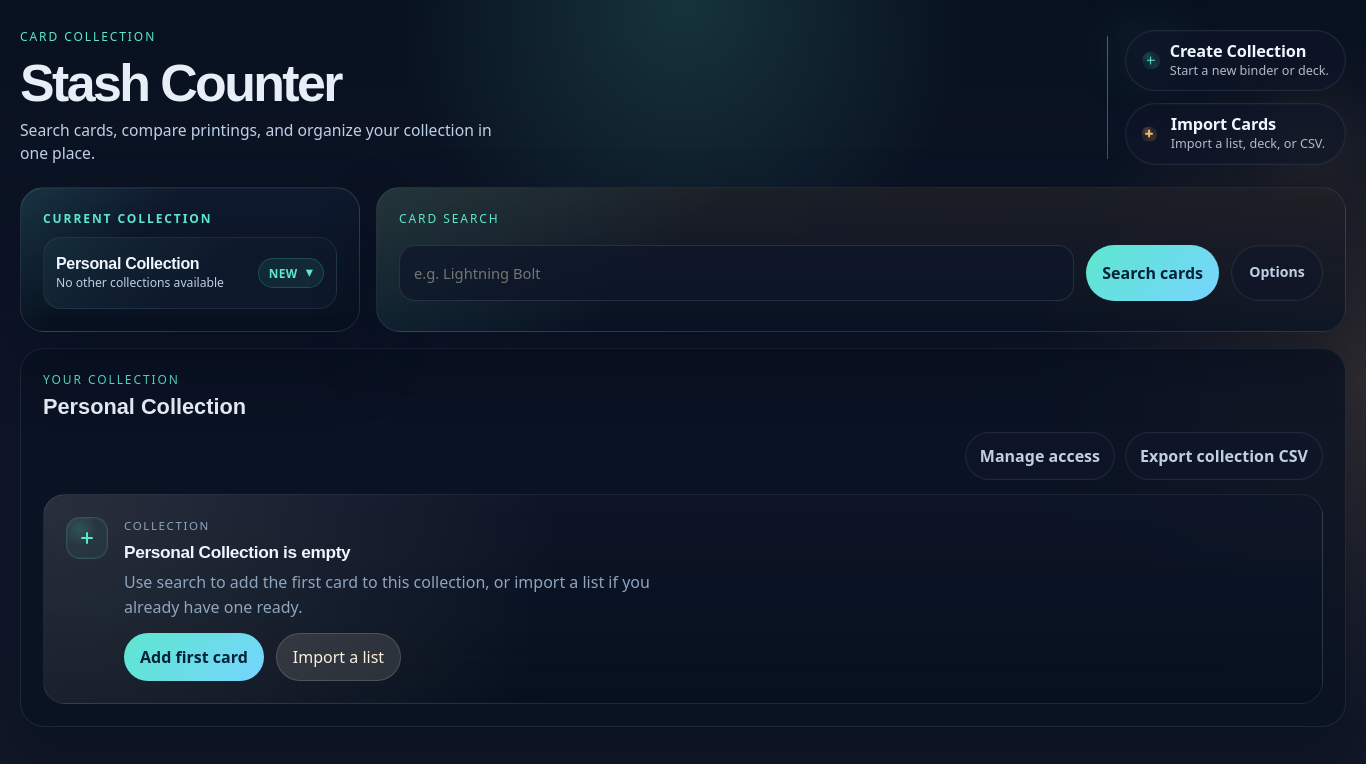
Test: App › supports keyboard selection from autocomplete suggestions
The image size is (1366, 764).
Type "Fo" into the dropdown named "Quick Add and Card Search". click: (737, 273)
box: x1=399 y1=245 x2=1074 y2=301
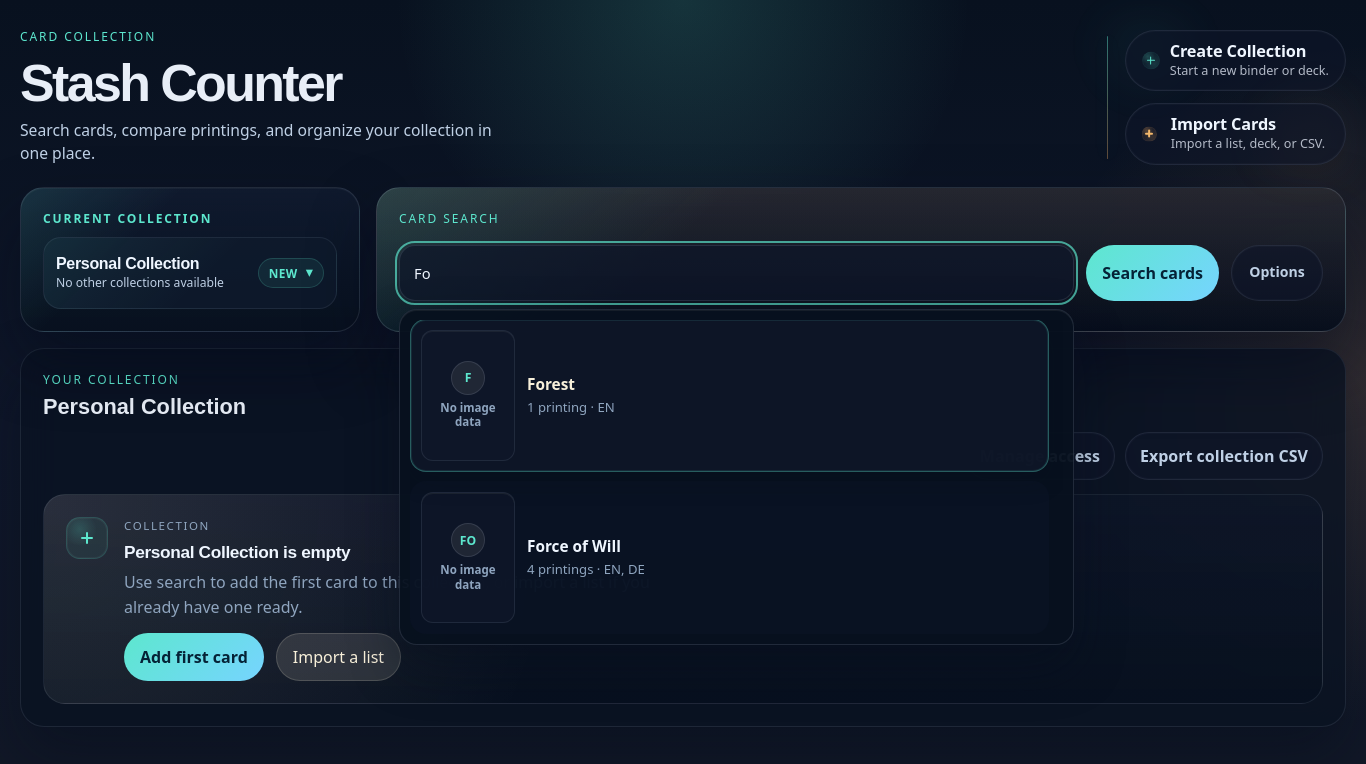
Expected: the list named "Card suggestions" is shown, x1=399 y1=309 x2=1074 y2=645
Expected: the option "F No image data Forest 1 printing · EN" is shown, x1=410 y1=320 x2=1049 y2=472
Expected: the option "FO No image data Force of Will 4 printings · EN, DE" is shown, x1=410 y1=481 x2=1049 y2=634
Press Arrowdown
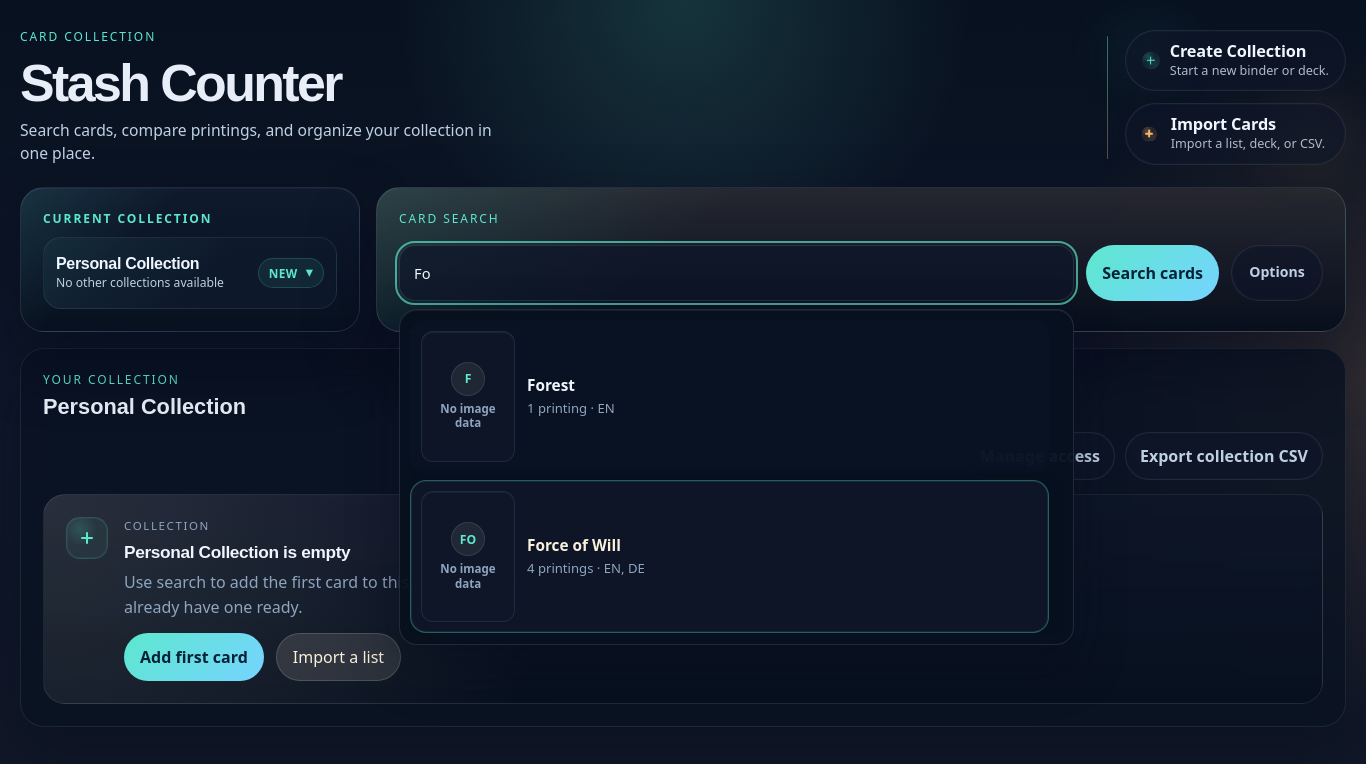
Press Enter
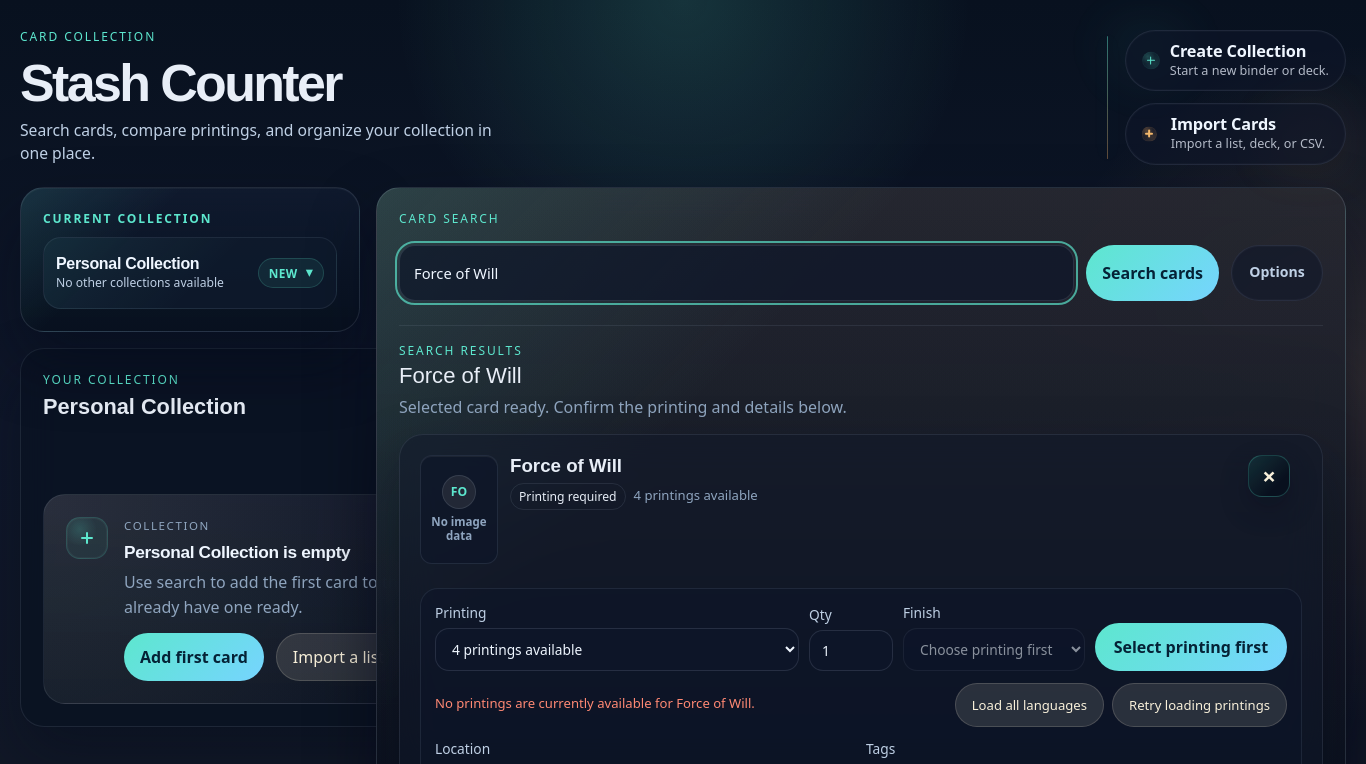
Expected: the dropdown named "Quick Add and Card Search" holds "Force of Will", x1=399 y1=245 x2=1074 y2=301
Expected: the heading "Force of Will" is shown, x1=510 y1=455 x2=622 y2=476
